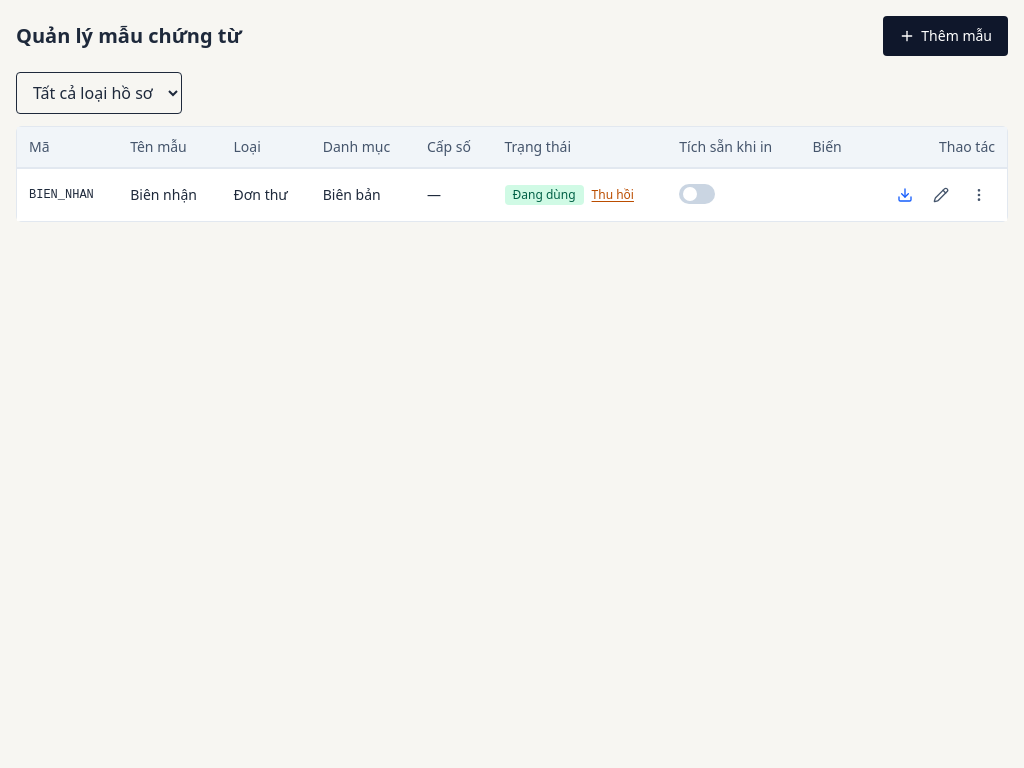
Scenario: DocumentTemplatesPage › Xoá: bấm Hủy → đóng modal, KHÔNG delete
Click the button with test id "btn-more-d1". click: (979, 195)
box: [963,179,995,211]
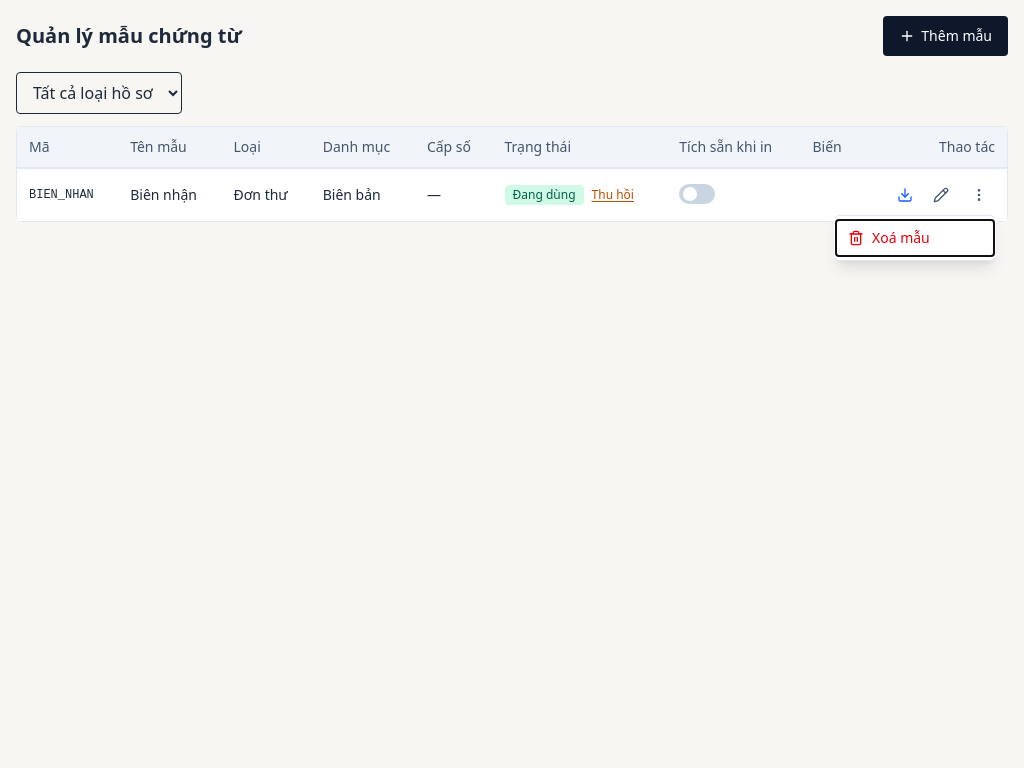
Click the menu item with test id "btn-delete-d1". click: (915, 238)
box: [836,220,994,256]
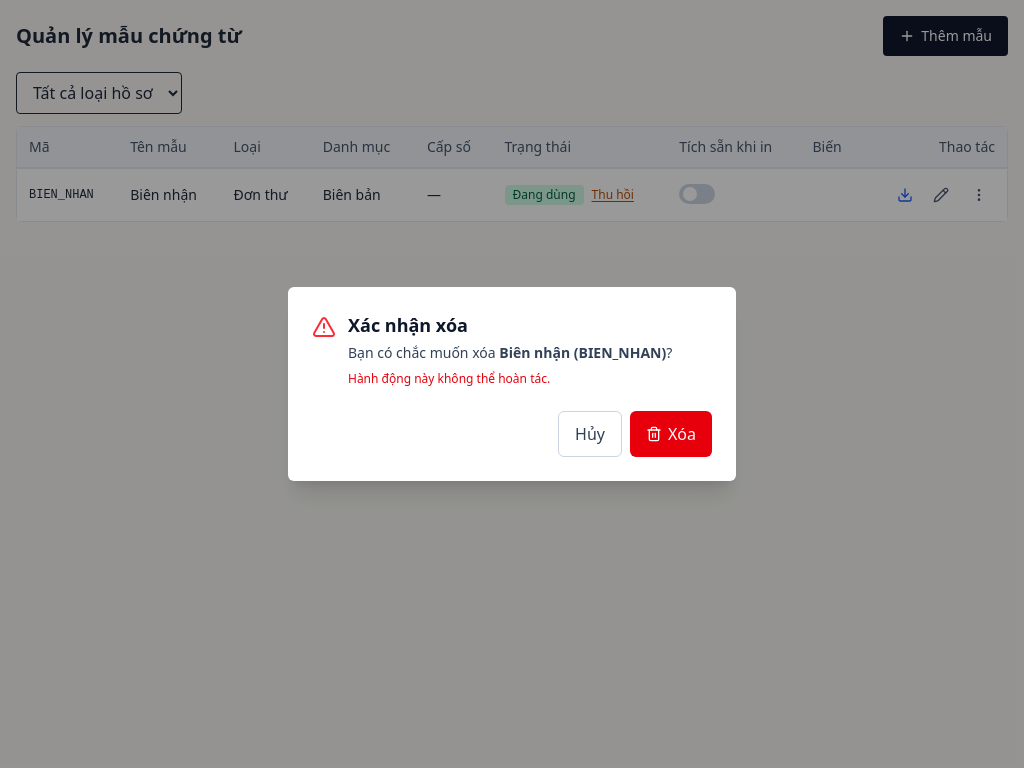
Click the button with test id "btn-cancel-delete". click: (590, 434)
box: [558,411,622,457]
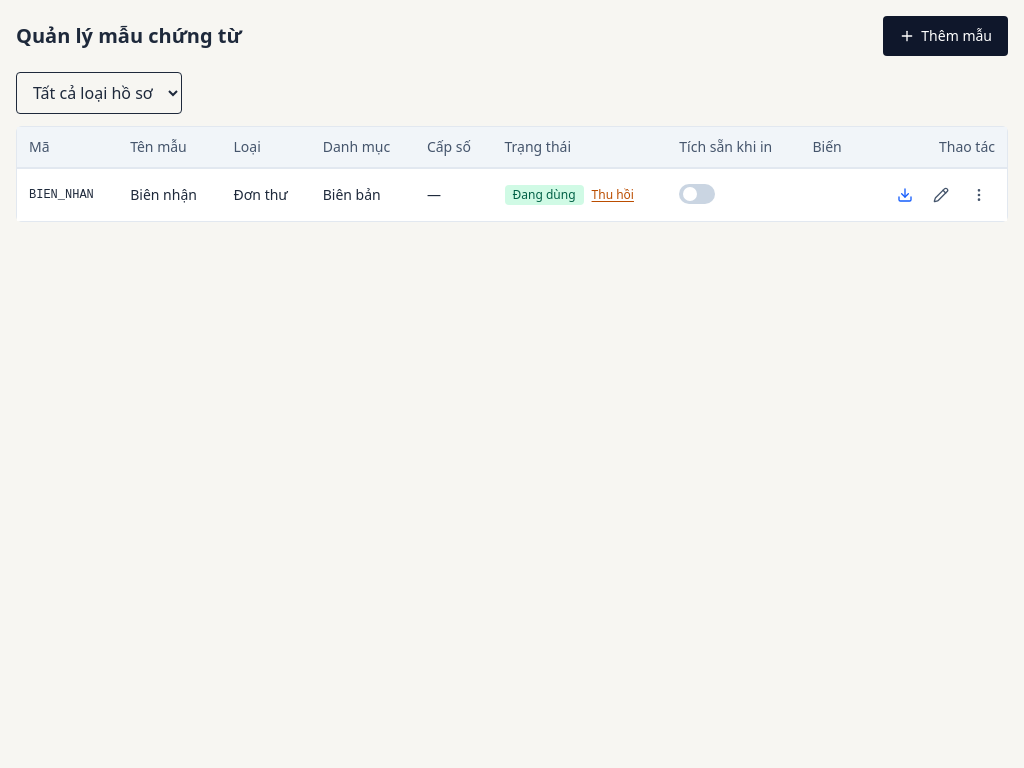
Result: the dialog with test id "delete-confirm-modal" is gone
